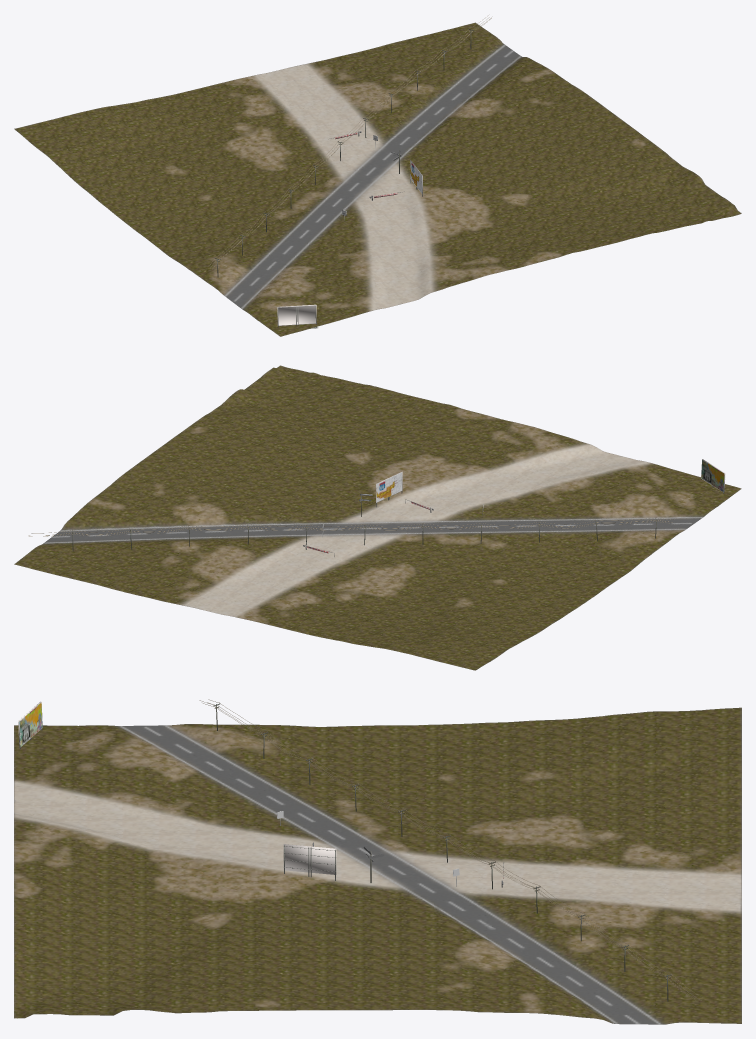
File: tile1.dae
3 views of the same model, one above another, from view 1: azimuth 30°, elevation 25°; view 2: azimuth 150°, elevation 25°; view 3: azimuth 270°, elevation 25° (orthographic). The views are drawn at different scales.
Parts seen in each view (by area): view 1: Object__222, Object__71; view 2: Object__222, Object__324; view 3: Object__222, Object__325, Object__205.
Part boxes in pixels (x1,y1,x2,y2): Object__222: [14, 22, 741, 336]; Object__71: [277, 305, 316, 325]; Object__222: [14, 365, 741, 670]; Object__324: [376, 472, 402, 502]; Object__222: [14, 707, 741, 1024]; Object__325: [283, 844, 336, 874]; Object__205: [19, 703, 42, 746].
Size of the model in its own units: 200 by 200 by 13.87.
